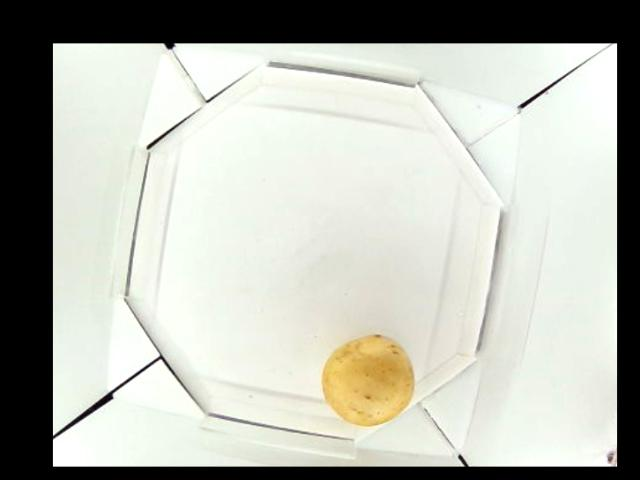Potato: (320, 332, 414, 433)
